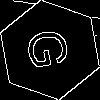G: (25, 25, 80, 72)
